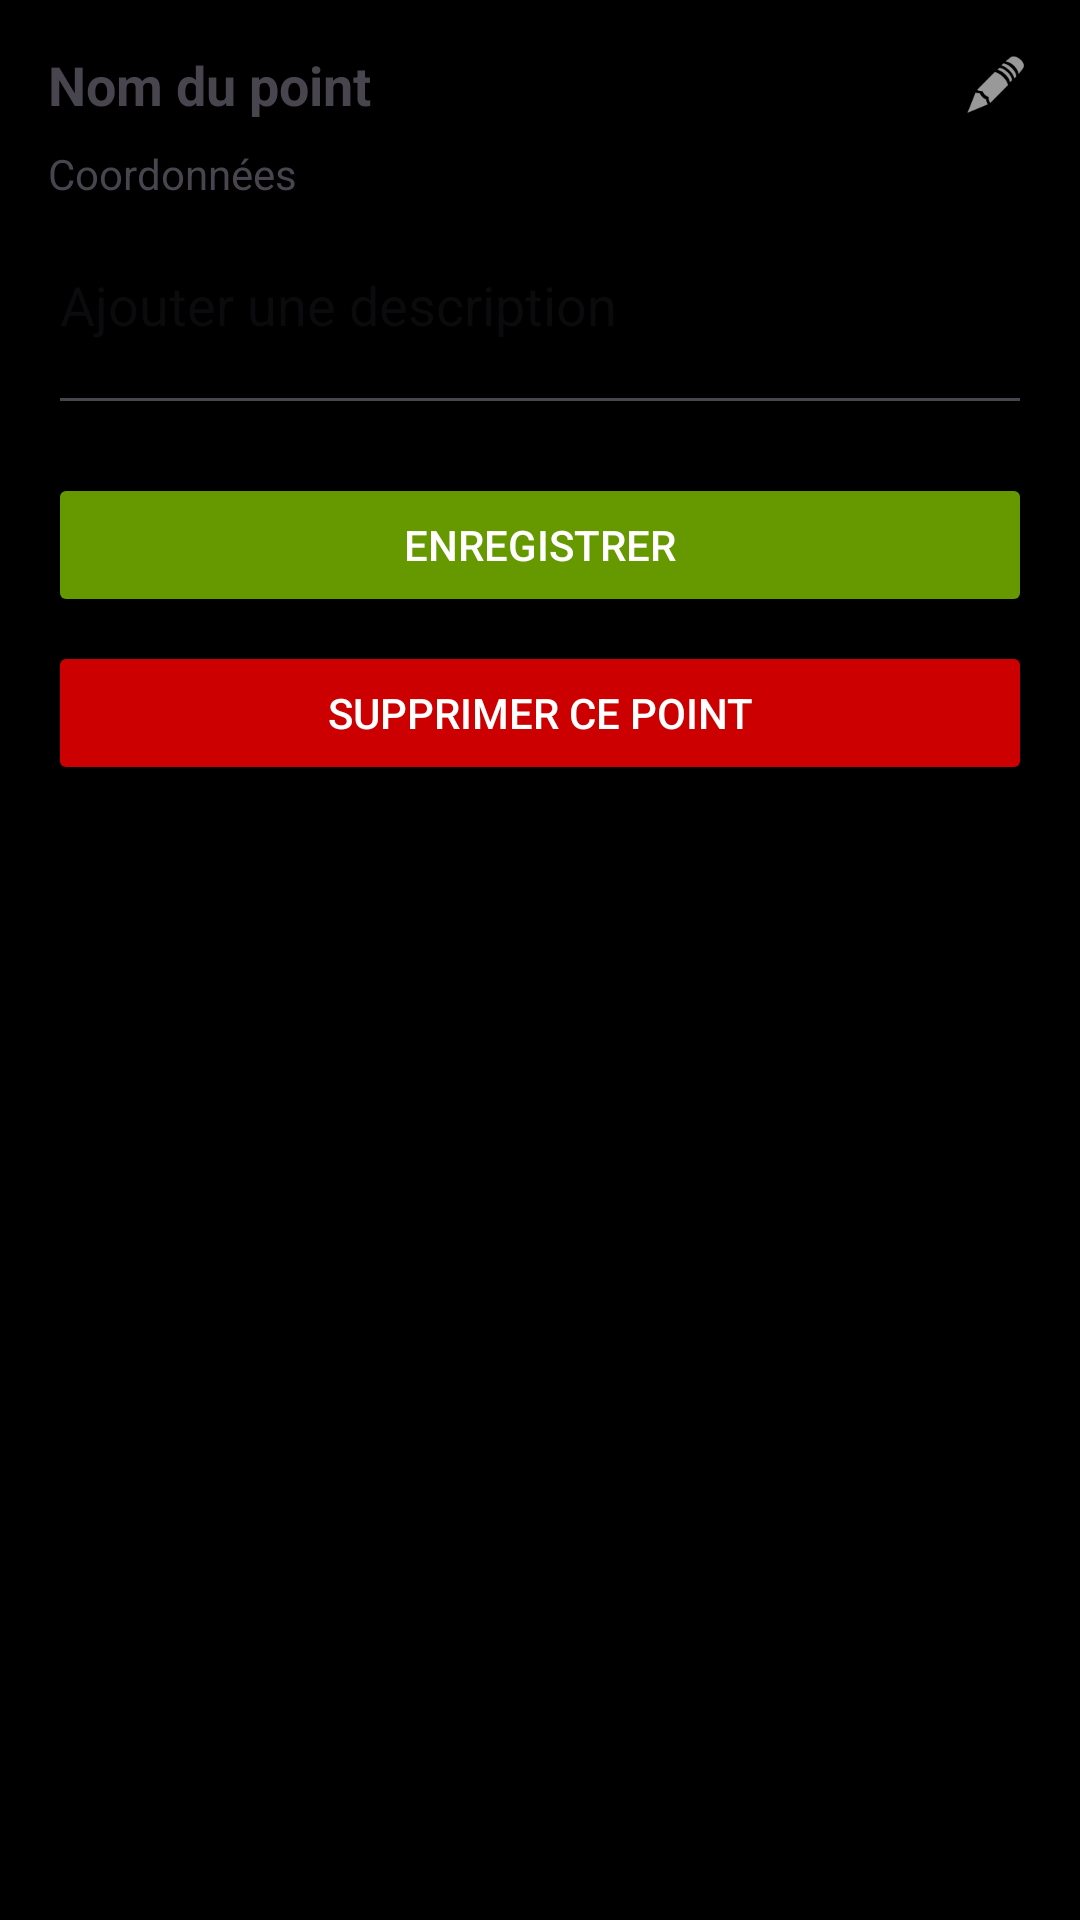

Screen size 1080 × 1920. Icon name, then its center in pixels as (x=x, y=y):
Modifier le nom: (x=995, y=84)
